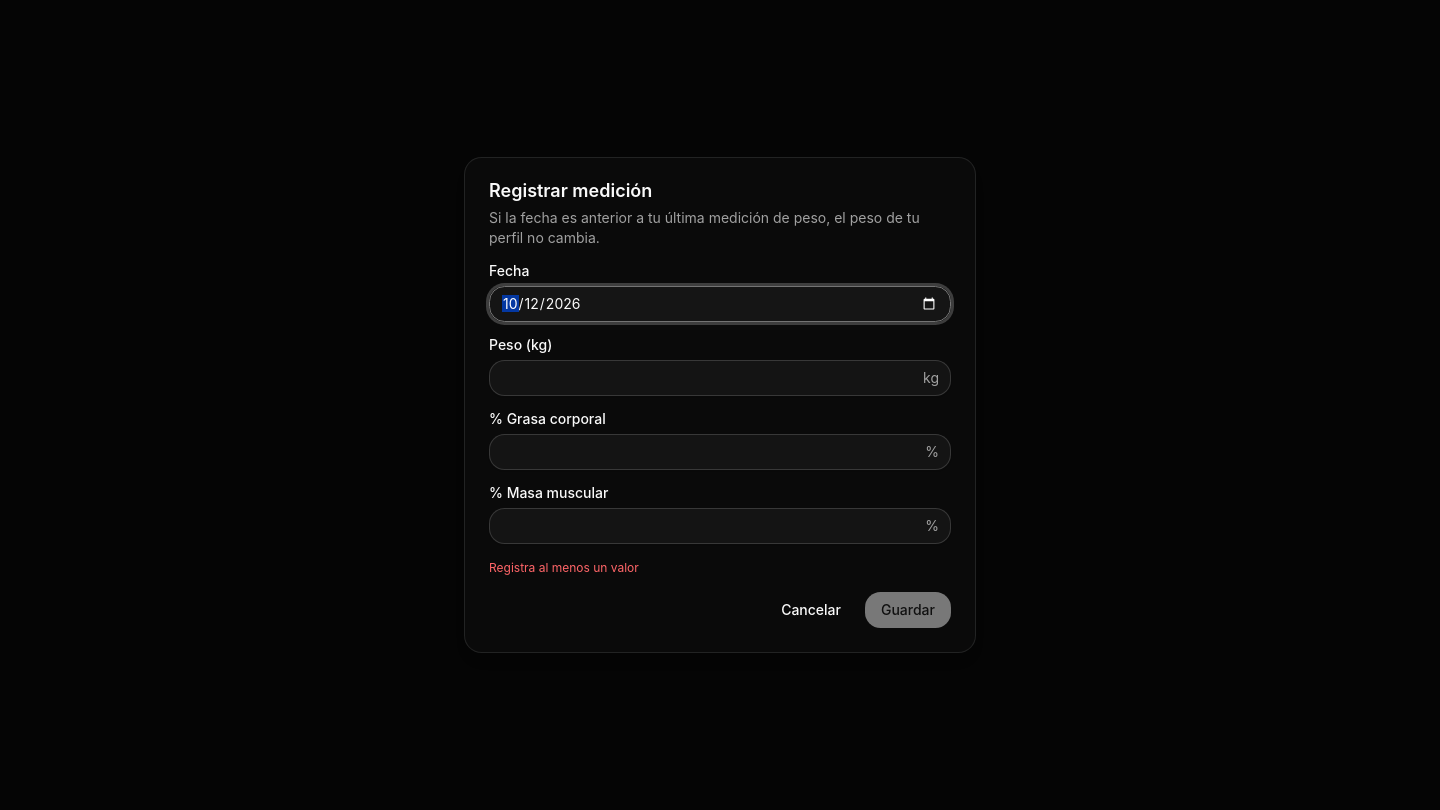
Scenario: RegisterMetricDialog - guardado › si falla, el diálogo sigue abierto con los valores y muestra el error
Type "80" into the number field labelled "Peso (kg)" at (720, 378), box [489,360,951,396]
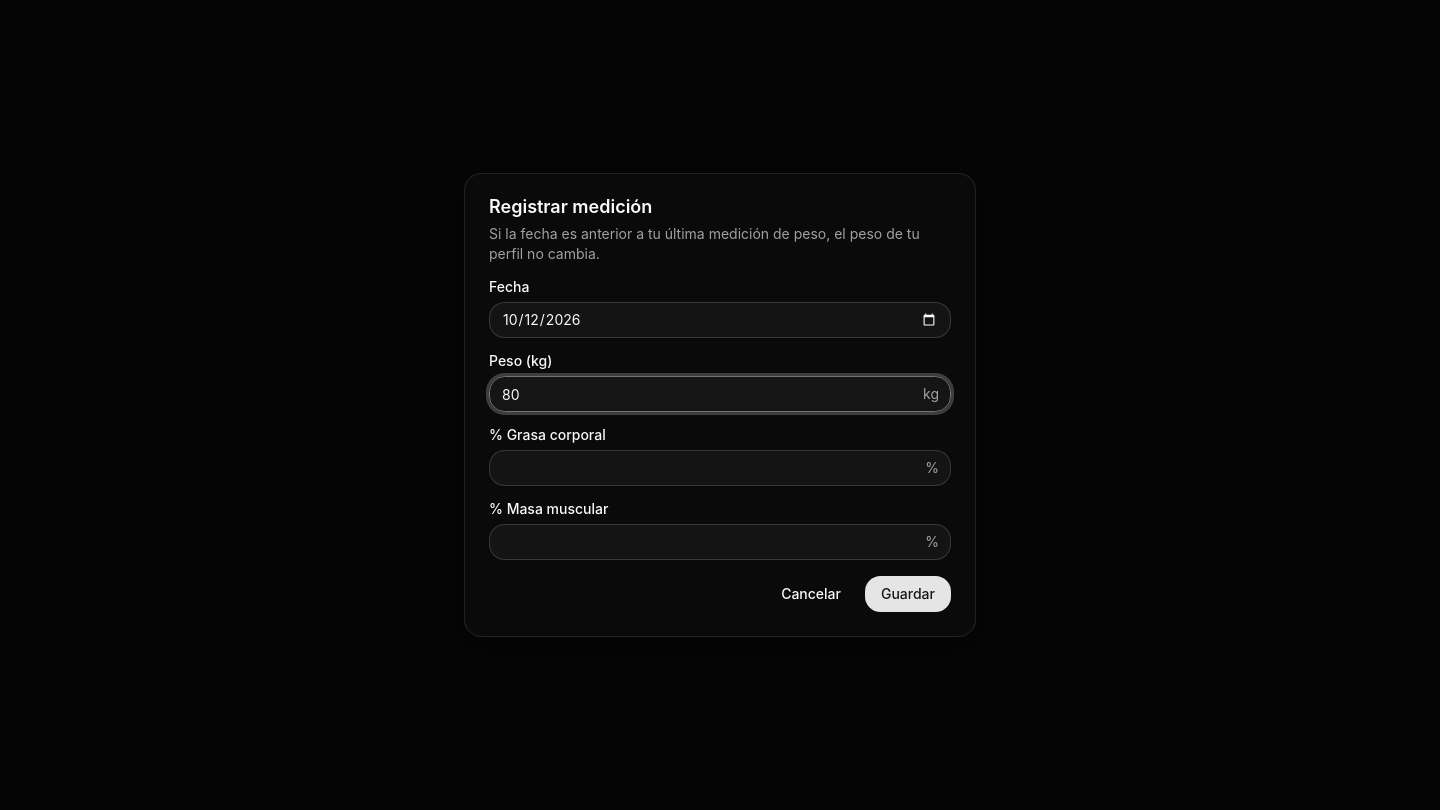
Click the button "Guardar" at (908, 594), box [865,576,951,612]
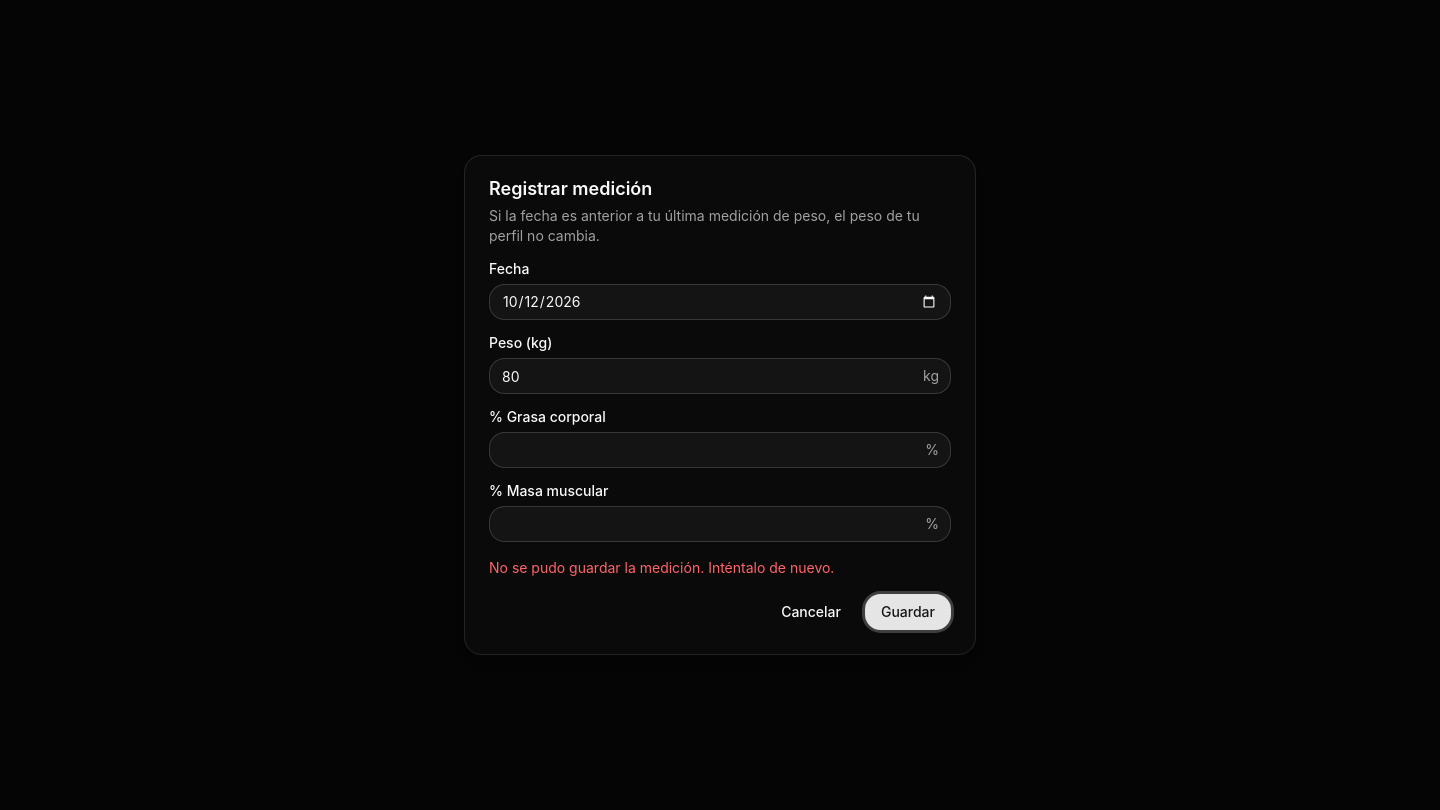
Expected: the dialog "Registrar medición" is shown, [464,155,976,655]
Now the text "No se pudo guardar la medición. Inténtalo de nuevo." is shown, box [489,559,834,576]
